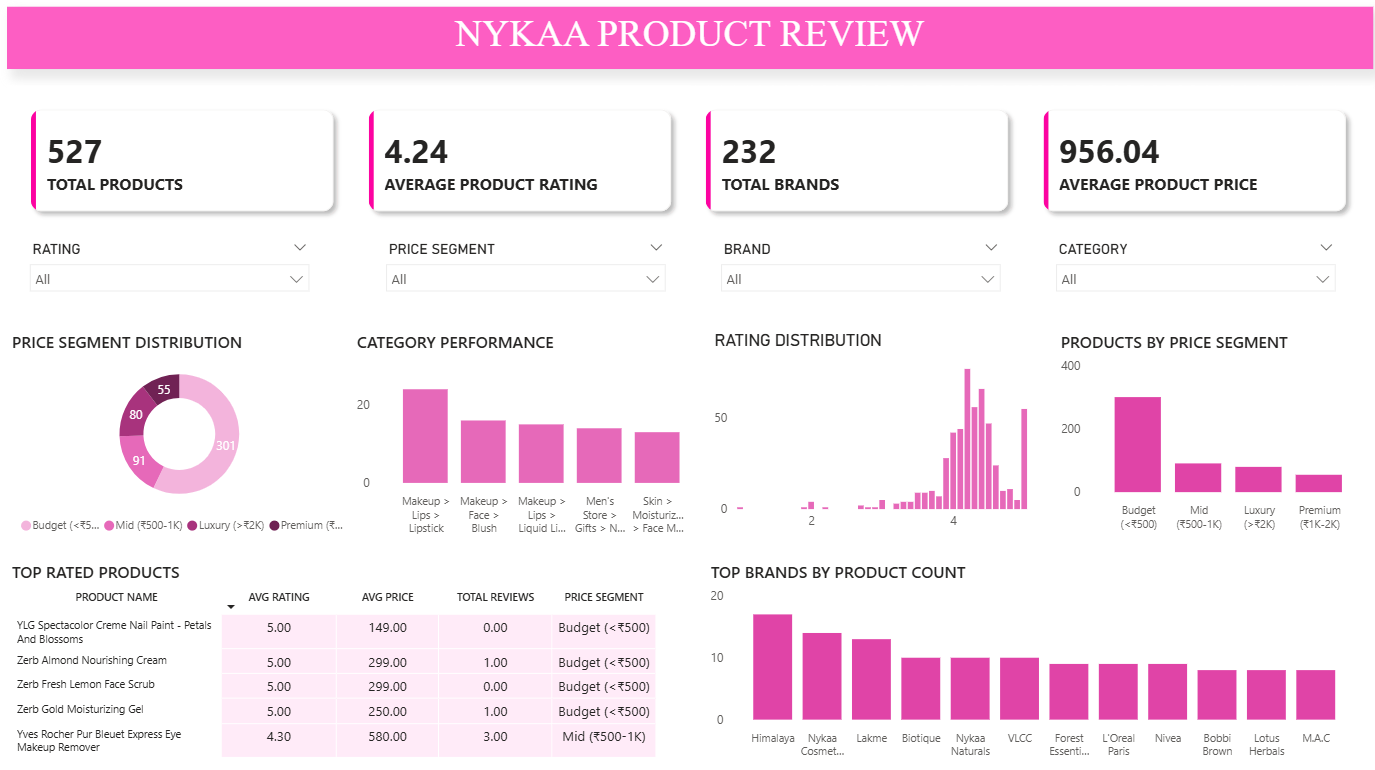

What the dashboard file says about the page in this screenshot:
{"tool":"powerbi","page":{"name":"Page 1","canvas":[1400,800],"ordinal":0},"visuals":[{"type":"textbox","box":[10.2,14,1368.5,62.3],"z":0},{"type":"cardVisual","fields":{"Data":["Count(cleaned_nykaa_data.Product_Name)","Avg(cleaned_nykaa_data.Product_Rating)","Count(cleaned_nykaa_data.Product_Brand)","Avg(cleaned_nykaa_data.Product_Price)"]},"box":[10.2,92.8,1368.5,150.1],"z":1000},{"type":"donutChart","title":"PRICE SEGMENT DISTRIBUTION","fields":{"Category":["cleaned_nykaa_data.price_segment"],"Y":["CountNonNull(cleaned_nykaa_data.price_segment)"]},"box":[10,338.1,345.6,212.9],"z":2000},{"type":"columnChart","title":"TOP BRANDS BY PRODUCT COUNT","fields":{"Category":["cleaned_nykaa_data.Product_Brand"],"Y":["CountNonNull(cleaned_nykaa_data.Product_Name)"]},"box":[710.1,568.6,656.2,206.6],"z":3000},{"type":"clusteredColumnChart","title":"PRODUCTS BY PRICE SEGMENT","fields":{"Y":["CountNonNull(cleaned_nykaa_data.Product_Name)"],"Category":["cleaned_nykaa_data.price_segment"]},"box":[1060.7,338.1,318.1,209.1],"z":4000},{"type":"pivotTable","title":"TOP RATED PRODUCTS","fields":{"Rows":["cleaned_nykaa_data.Product_Name"],"Values":["Avg(cleaned_nykaa_data.Product_Rating)","Avg(cleaned_nykaa_data.Product_Price)","Avg(cleaned_nykaa_data.Product_Reviews_Count)","Min(cleaned_nykaa_data.price_segment)"]},"box":[10,568.6,668.8,206.6],"z":5000},{"type":"clusteredColumnChart","title":"RATING DISTRIBUTION","fields":{"Category":["cleaned_nykaa_data.Product_Rating"],"Y":["CountNonNull(cleaned_nykaa_data.Product_Rating)"]},"box":[713.8,338.1,324.4,209.1],"z":6000},{"type":"columnChart","title":"CATEGORY PERFORMANCE","fields":{"Y":["CountNonNull(cleaned_nykaa_data.price_segment)"],"Category":["cleaned_nykaa_data.Product_Category"]},"box":[355.7,338.1,358.2,212.9],"z":7000},{"type":"slicer","fields":{"Values":["cleaned_nykaa_data.Product_Rating"]},"box":[22.9,242.9,300.1,67.4],"z":7001},{"type":"slicer","fields":{"Values":["cleaned_nykaa_data.Product_Category"]},"box":[1050.5,242.9,300.1,67.4],"z":7002},{"type":"slicer","fields":{"Values":["cleaned_nykaa_data.Product_Brand"]},"box":[714.8,242.9,300.1,67.4],"z":7003},{"type":"slicer","fields":{"Values":["cleaned_nykaa_data.price_segment"]},"box":[379,242.9,300.1,67.4],"z":7004}]}

Visuals, with their boxes in screenshot pixels (x1, y1, x2, y2), scaled from the page's 1400x800 canvas onto the 1375x770 screenshot:
textbox: {"left": 10, "top": 13, "right": 1354, "bottom": 73}
cardVisual - Count(cleaned_nykaa_data.Product_Name) x Avg(cleaned_nykaa_data.Product_Rating): {"left": 10, "top": 89, "right": 1354, "bottom": 234}
"PRICE SEGMENT DISTRIBUTION" donutChart: {"left": 10, "top": 325, "right": 349, "bottom": 530}
"TOP BRANDS BY PRODUCT COUNT" columnChart: {"left": 697, "top": 547, "right": 1342, "bottom": 746}
"PRODUCTS BY PRICE SEGMENT" clusteredColumnChart: {"left": 1042, "top": 325, "right": 1354, "bottom": 527}
"TOP RATED PRODUCTS" pivotTable: {"left": 10, "top": 547, "right": 667, "bottom": 746}
"RATING DISTRIBUTION" clusteredColumnChart: {"left": 701, "top": 325, "right": 1020, "bottom": 527}
"CATEGORY PERFORMANCE" columnChart: {"left": 349, "top": 325, "right": 701, "bottom": 530}
slicer - cleaned_nykaa_data.Product_Rating: {"left": 22, "top": 234, "right": 317, "bottom": 299}
slicer - cleaned_nykaa_data.Product_Category: {"left": 1032, "top": 234, "right": 1326, "bottom": 299}
slicer - cleaned_nykaa_data.Product_Brand: {"left": 702, "top": 234, "right": 997, "bottom": 299}
slicer - cleaned_nykaa_data.price_segment: {"left": 372, "top": 234, "right": 667, "bottom": 299}
